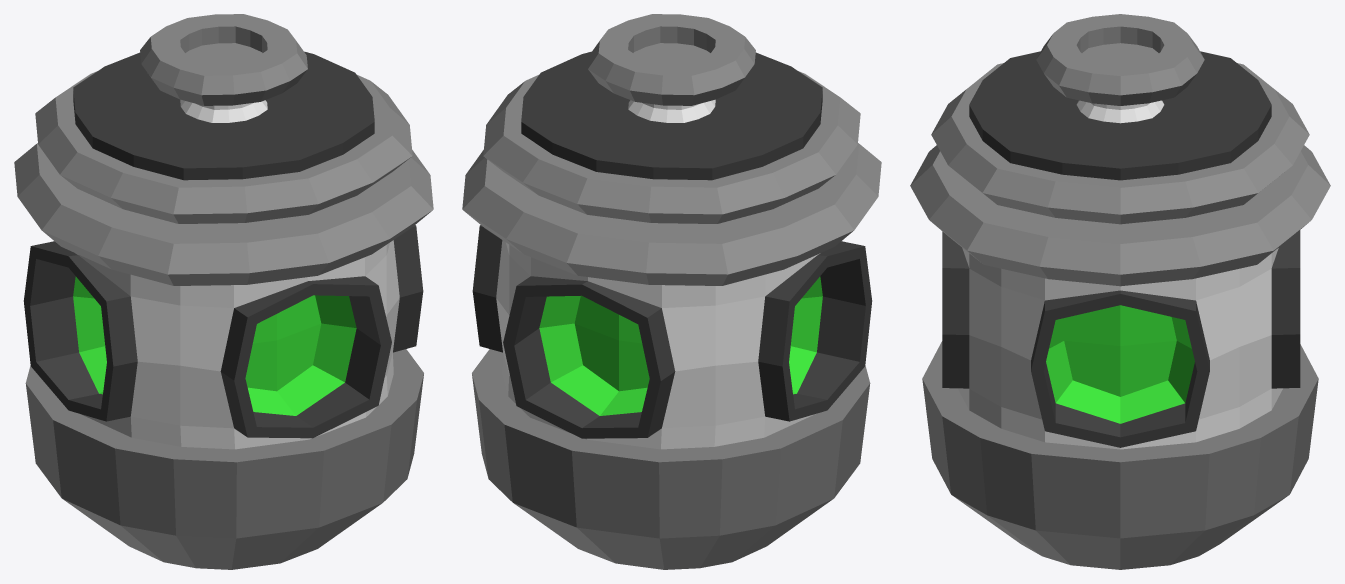
File: Emitter.fbx
3 renders of one model, left to right at view 1: azimuth 30°, elevation 25°; view 2: azimuth 150°, elevation 25°; view 3: azimuth 270°, elevation 25°, orthographic.
Visible parts, largest first — view 1: Cube, Emitter; view 2: Cube, Emitter; view 3: Cube, Emitter.
Boxes of the visible parts, left/top/right/bottom form: Cube: left=23, top=225, right=423, bottom=569; Emitter: left=14, top=14, right=433, bottom=285; Cube: left=472, top=225, right=872, bottom=569; Emitter: left=462, top=14, right=881, bottom=285; Cube: left=922, top=230, right=1318, bottom=569; Emitter: left=910, top=14, right=1330, bottom=286.
Bounding box in the file's own units: 552 × 712 × 552.
